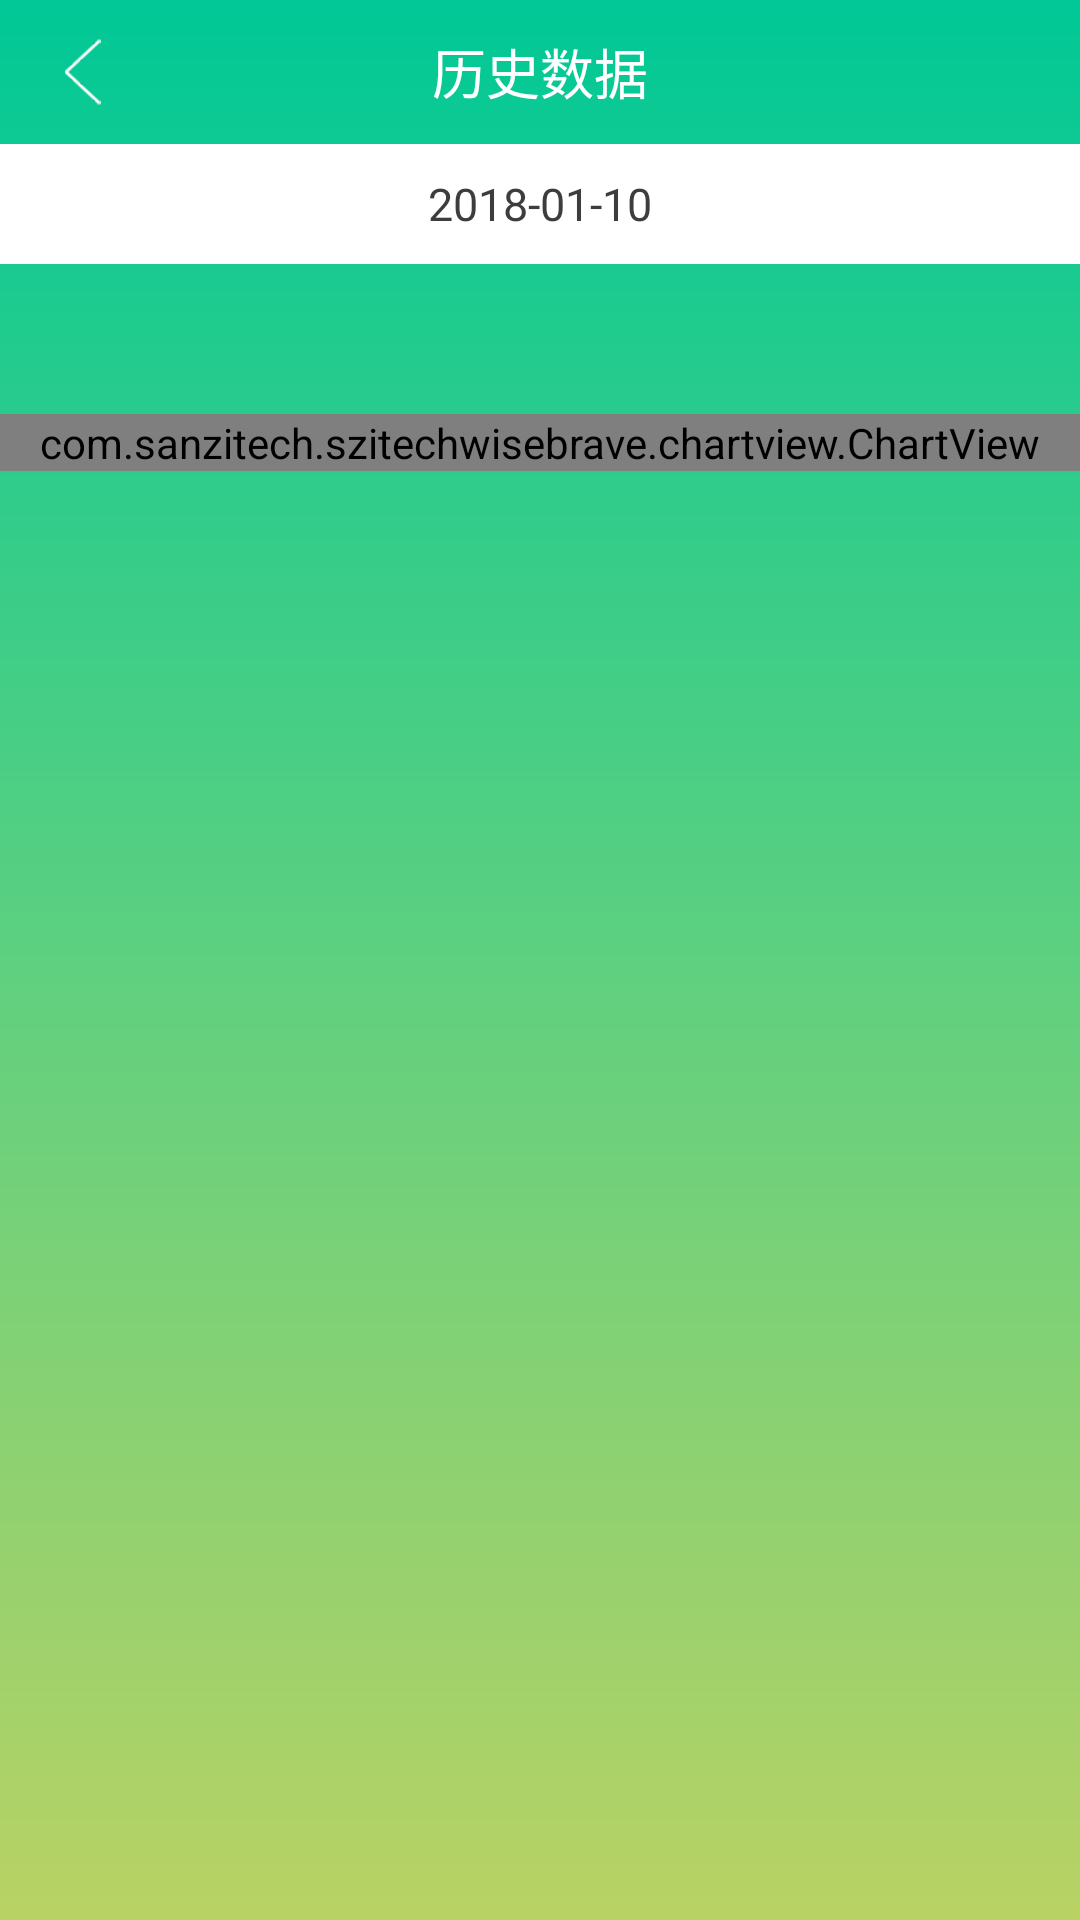

Icons on this 1080×1920 Android screen, each with the point to tap as (x,y):
homepage back: (83,72)
